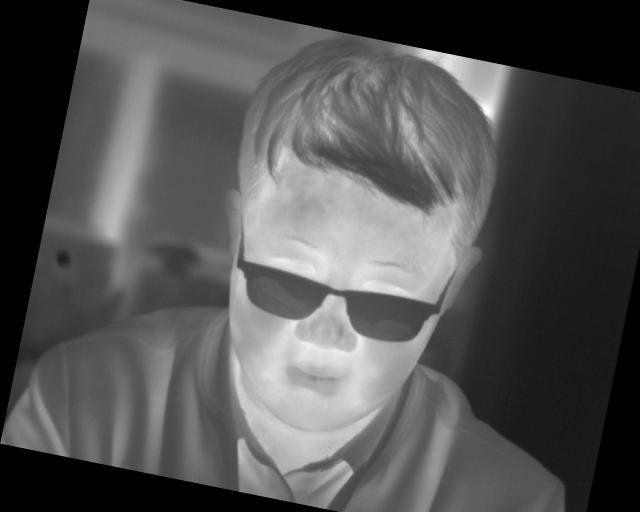face: (184, 20, 523, 461)
